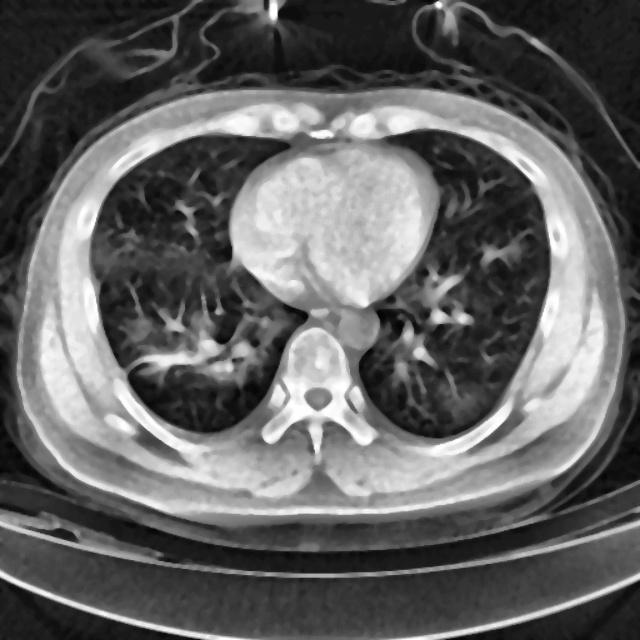covid: (9, 82, 629, 549)
